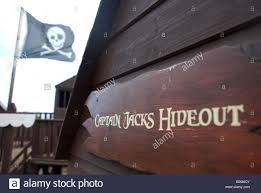Jolly Roger Flag: (17, 11, 81, 62)
